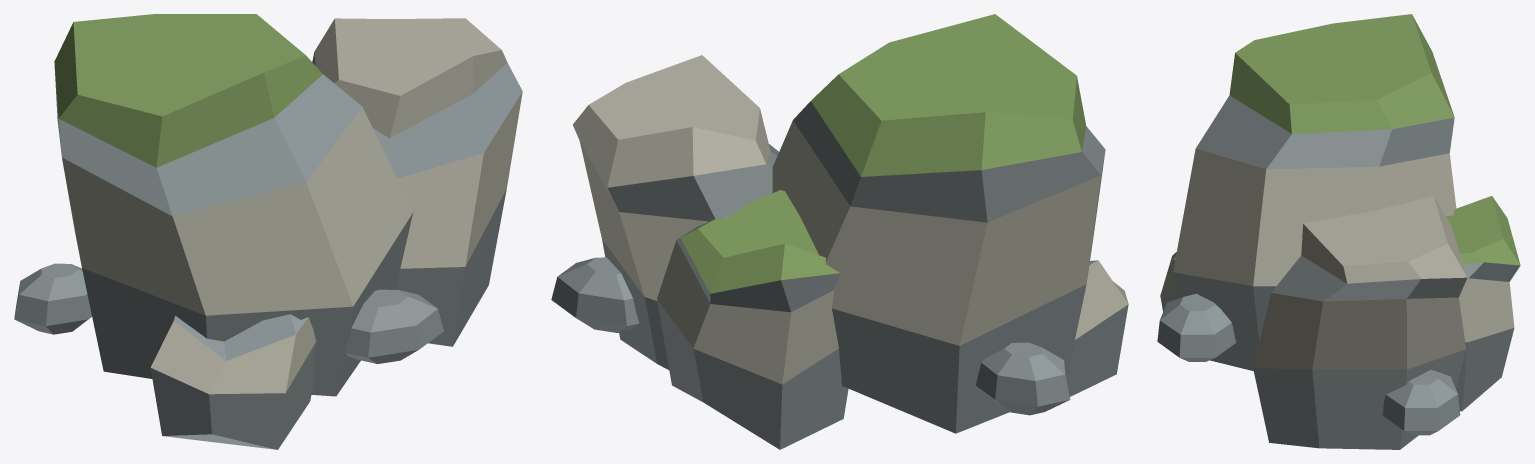
The model's file is moss_limestone.glb.
3 views of the same model, side by side, from view 1: azimuth 30°, elevation 25°; view 2: azimuth 150°, elevation 25°; view 3: azimuth 270°, elevation 25° (orthographic). The views are drawn at different scales.
Visible parts, largest first — view 1: moss_limestone; view 2: moss_limestone; view 3: moss_limestone.
Boxes of the visible parts, x1=… form: moss_limestone: x1=14, y1=14, x2=522, y2=449; moss_limestone: x1=551, y1=14, x2=1128, y2=449; moss_limestone: x1=1157, y1=14, x2=1520, y2=449.
Bounding box in the file's own units: 2.78 × 1.91 × 2.06.
